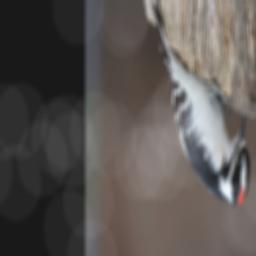Woodpecker: (150, 0, 251, 210)
